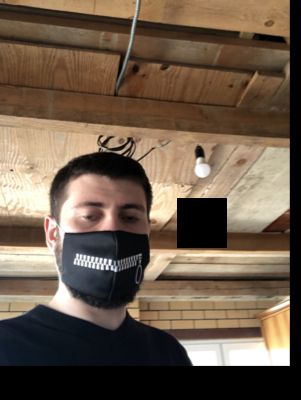with_mask: (61, 192, 149, 300)
